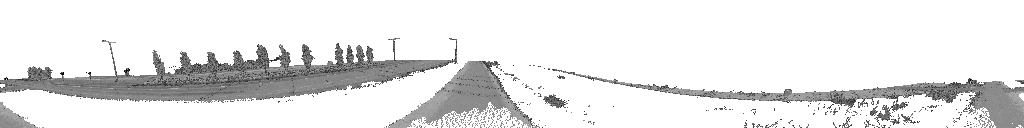light_pole: (101, 40, 117, 81), (387, 38, 400, 59), (448, 38, 457, 60)
